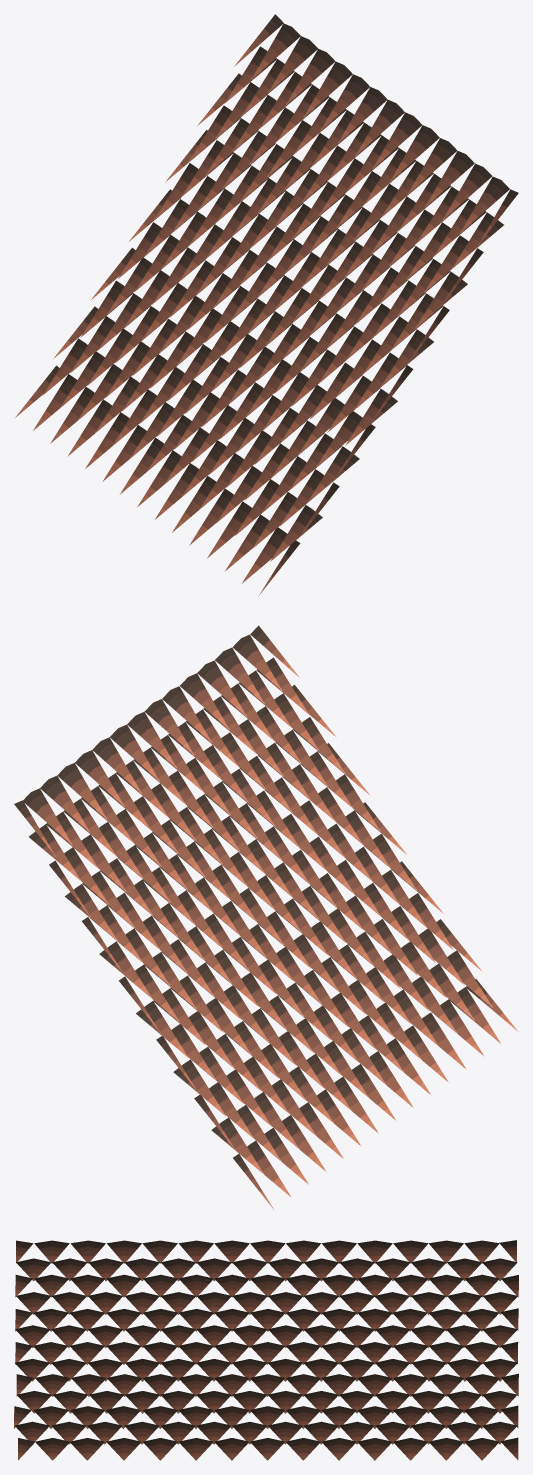
Rendered from Roof_LOD0.fbx.
3 views of the same model, one above another, from view 1: azimuth 30°, elevation 25°; view 2: azimuth 150°, elevation 25°; view 3: azimuth 270°, elevation 25° (orthographic). The views are drawn at different scales.
Parts seen in each view (by area): view 1: polySurface4770; view 2: polySurface4770; view 3: polySurface4770.
Part boxes in pixels (x1,y1,x2,y2): polySurface4770: (14,14,518,595); polySurface4770: (14,625,518,1210); polySurface4770: (14,1240,518,1460).
Bounding box in the file's own units: 260 × 325 × 424.
